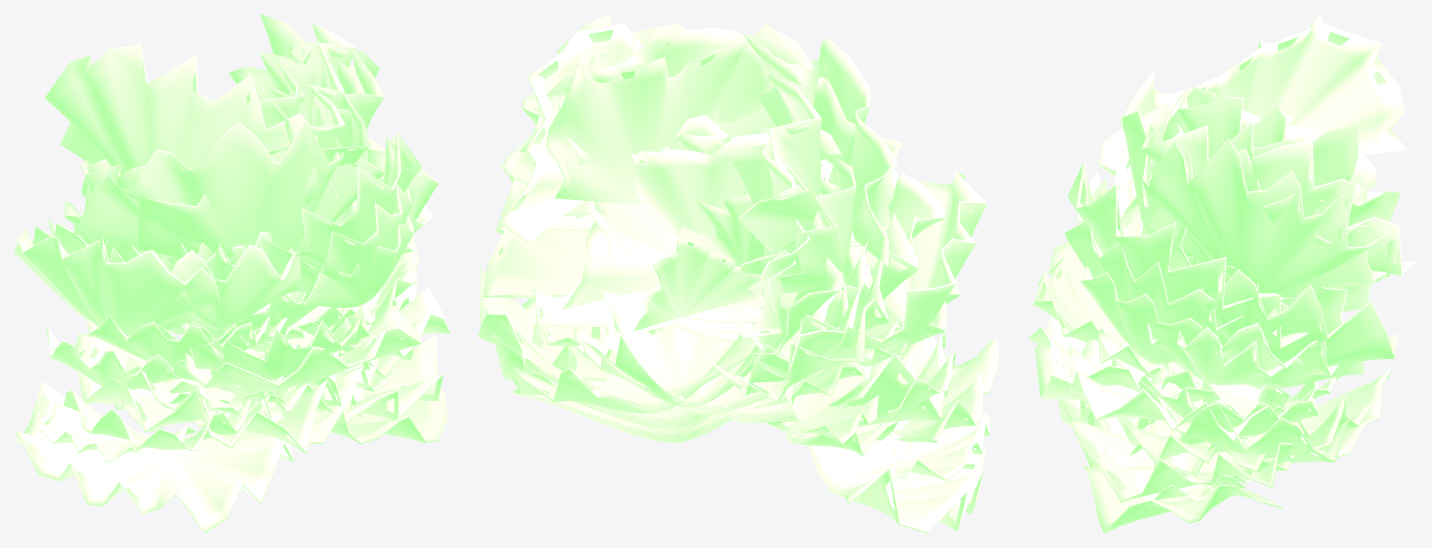
Rendered from ruffle.glb.
3 views of the same model, side by side, from view 1: azimuth 30°, elevation 25°; view 2: azimuth 150°, elevation 25°; view 3: azimuth 270°, elevation 25° (orthographic). The views are drawn at different scales.
Visible parts, largest first — view 1: ruffle; view 2: ruffle; view 3: ruffle.
Boxes of the visible parts, bbox=[...] form: ruffle: bbox=[14, 14, 449, 533]; ruffle: bbox=[478, 14, 999, 533]; ruffle: bbox=[1028, 14, 1417, 533].
Size of the model in its own units: 1.5 by 1.41 by 1.17.
